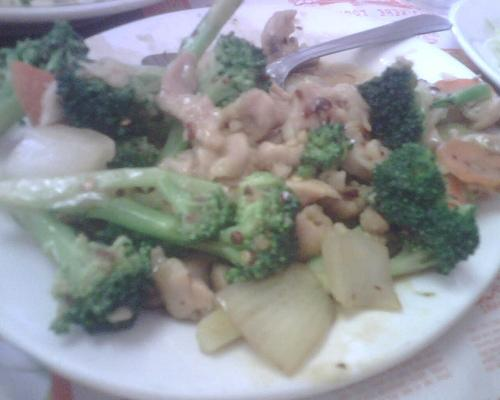broccoli: (0, 166, 300, 332), (370, 142, 480, 258), (0, 19, 97, 136), (56, 62, 173, 148), (356, 57, 426, 152), (203, 31, 271, 106), (106, 117, 194, 169), (296, 122, 353, 180)
carrot: (10, 60, 54, 127), (436, 138, 498, 184), (432, 78, 483, 94), (444, 174, 468, 206)
onion: (214, 263, 334, 376), (320, 222, 402, 320), (0, 116, 116, 178), (196, 308, 244, 356)
